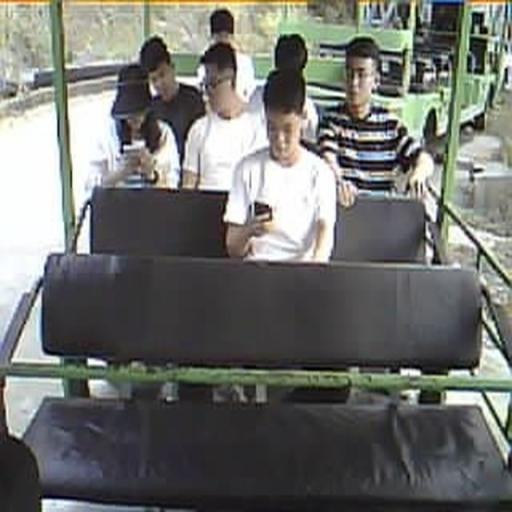persona: (223, 67, 337, 263), (317, 36, 435, 208), (181, 40, 267, 191), (90, 64, 181, 190), (247, 32, 323, 144), (138, 35, 206, 160), (196, 8, 256, 102)
